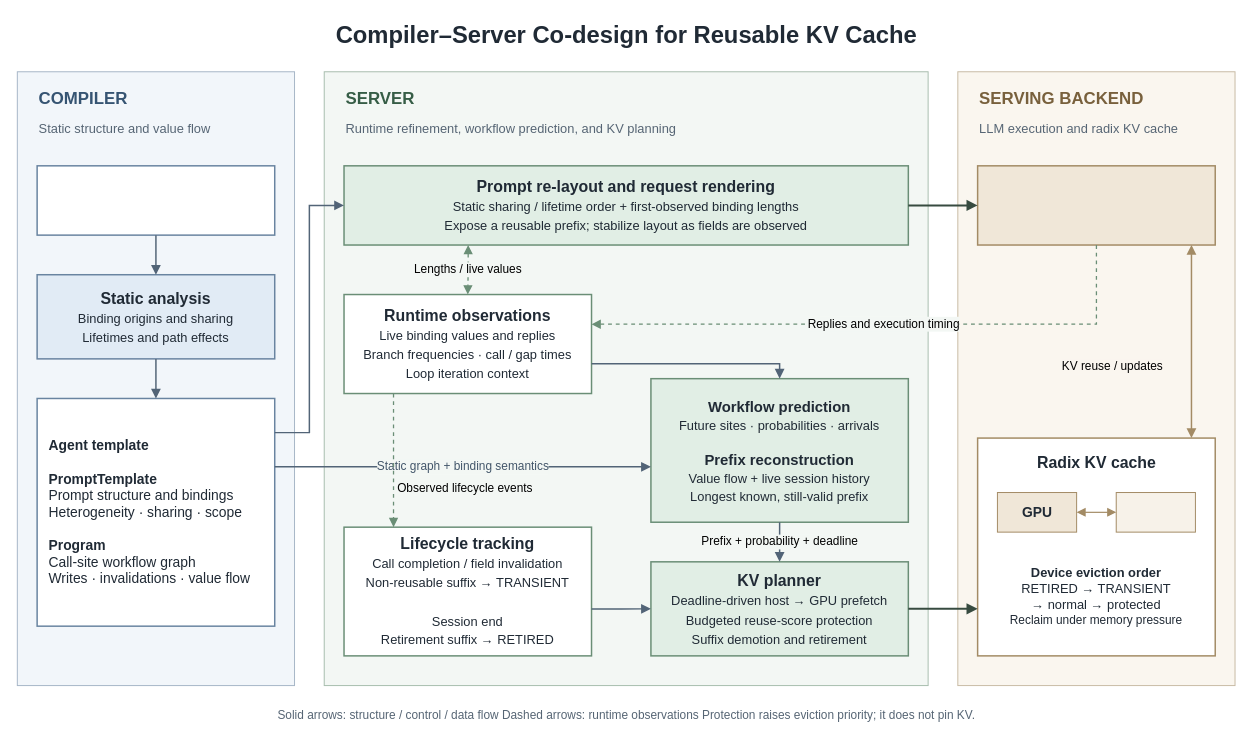
Image size: 1252x746. Some labels were removed from this diagram. Here are the shapes that lost their labels. From the top down, the centre of each, then its label:
At (x=155, y=200): "Agent program LLM calls and control flow".
At (x=1096, y=205): "LLM execution Exact-prefix reuse Prefill and decode".
At (x=1155, y=512): "Host".
